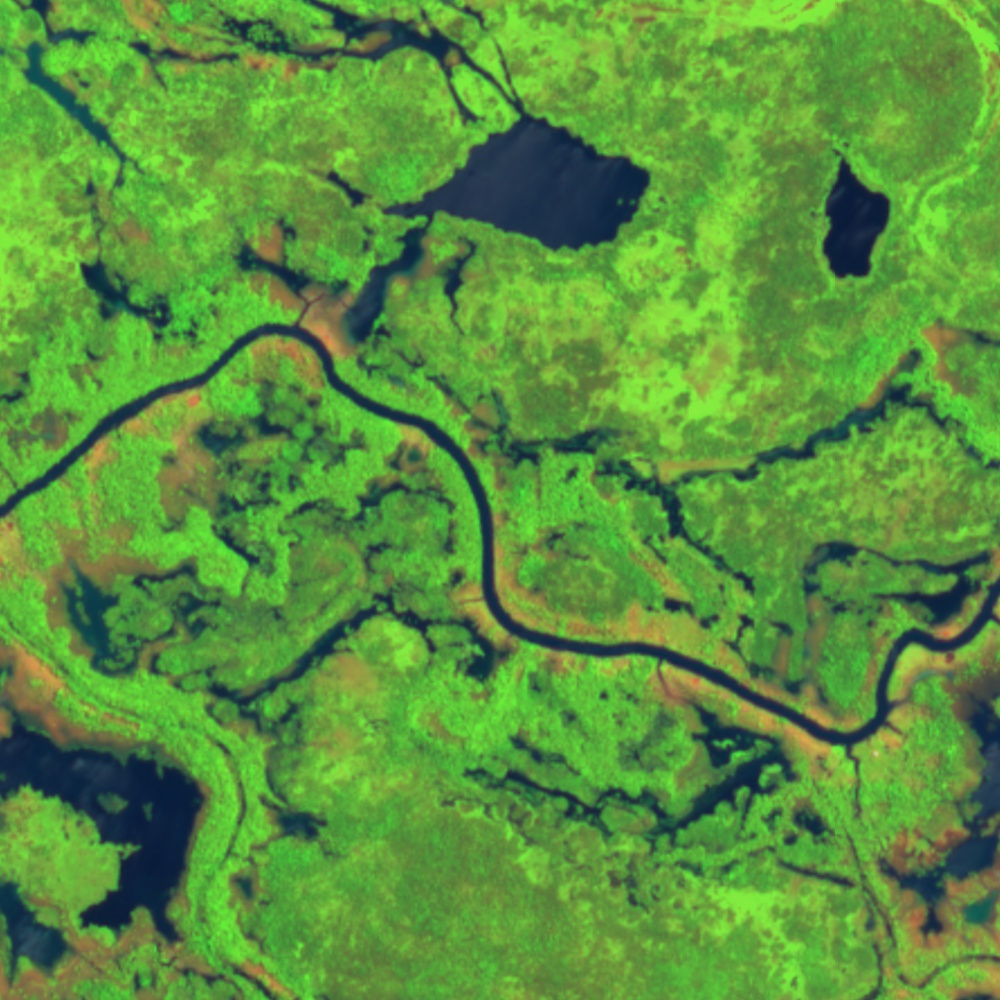legal: (636, 350, 929, 506), (4, 885, 293, 1000), (894, 644, 1000, 947), (446, 558, 668, 687), (119, 1, 472, 82), (228, 228, 387, 395), (1, 626, 174, 773), (410, 369, 618, 477), (641, 655, 840, 765), (22, 38, 145, 189), (74, 249, 202, 347), (451, 1, 844, 31), (938, 1, 1000, 181), (380, 214, 440, 288)
